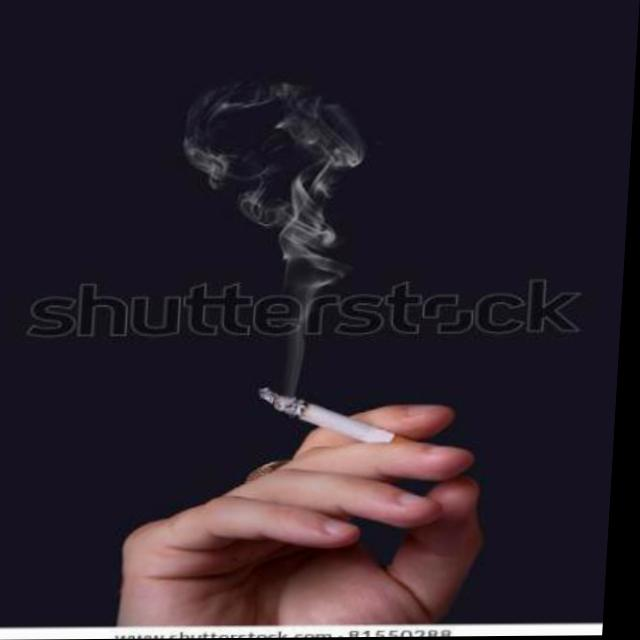cigarette: (259, 384, 426, 455)
